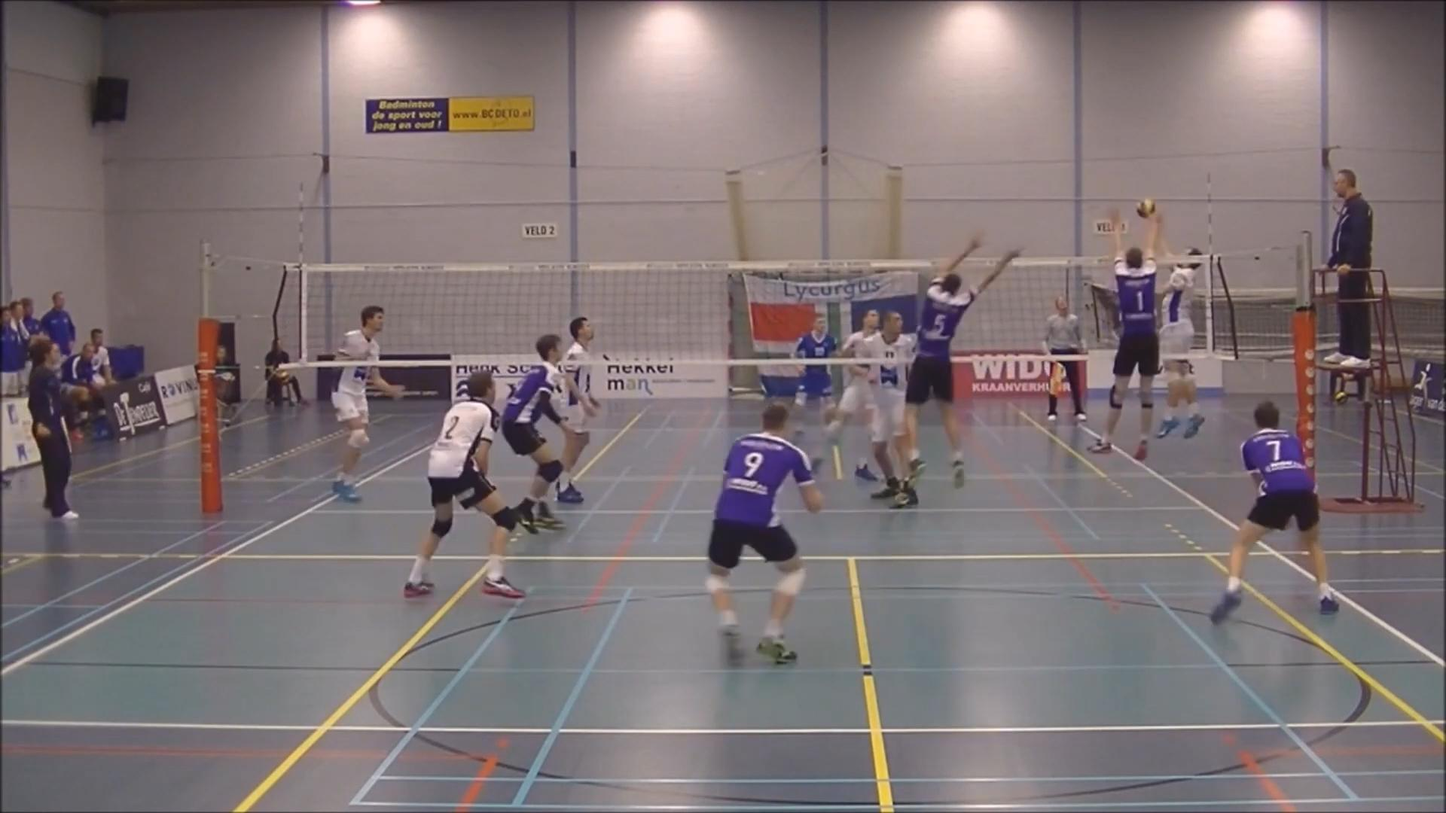Attack: (1140, 192, 1217, 443)
Block: (891, 227, 1029, 493), (1094, 208, 1180, 456)
Player: (706, 403, 822, 663), (1210, 401, 1338, 623), (404, 371, 523, 598), (331, 306, 403, 502), (502, 335, 571, 533), (859, 312, 914, 499), (557, 317, 599, 503), (825, 364, 874, 446), (795, 364, 833, 424)
ball: (1136, 189, 1161, 223)
